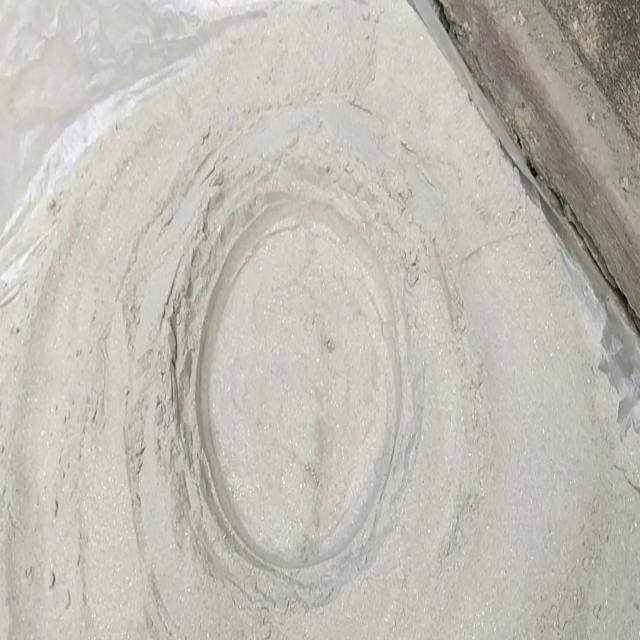C40: (197, 196, 401, 566)
